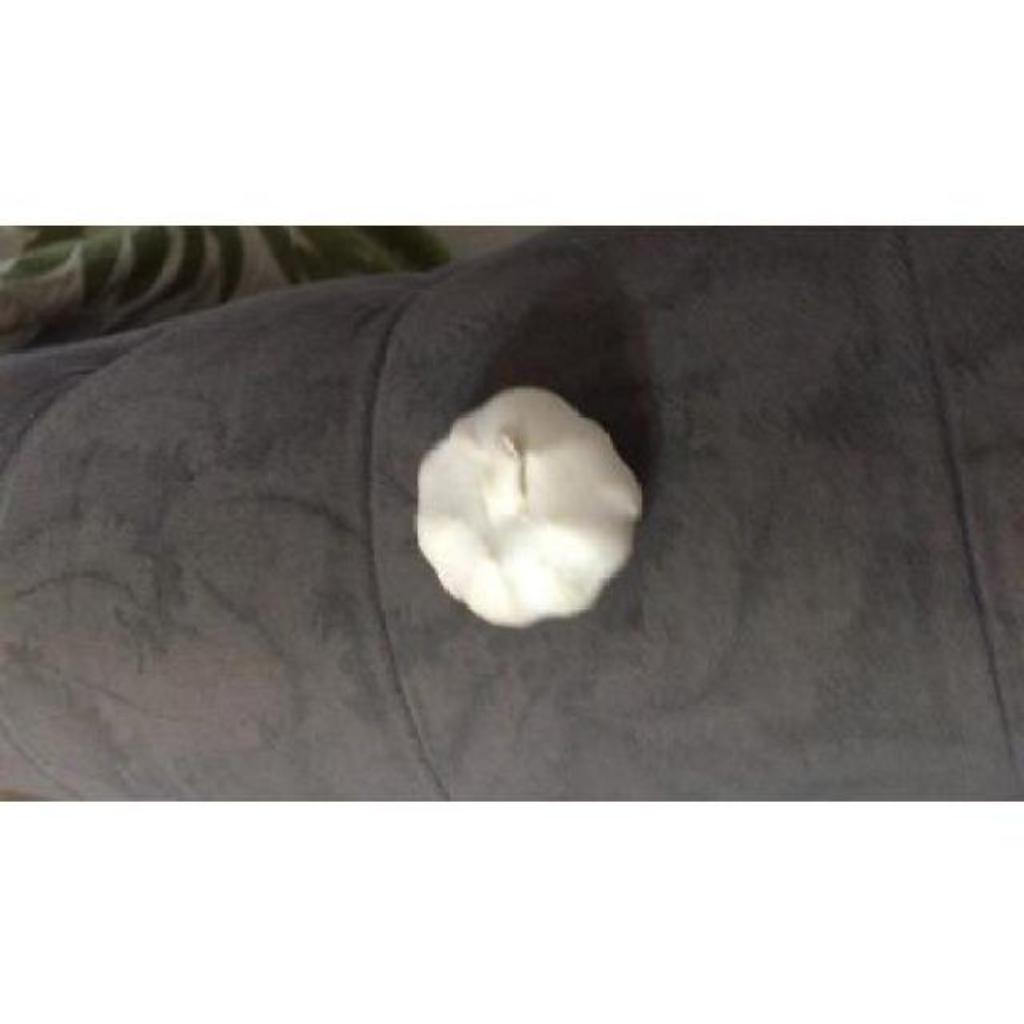garlic: (416, 386, 642, 625)
